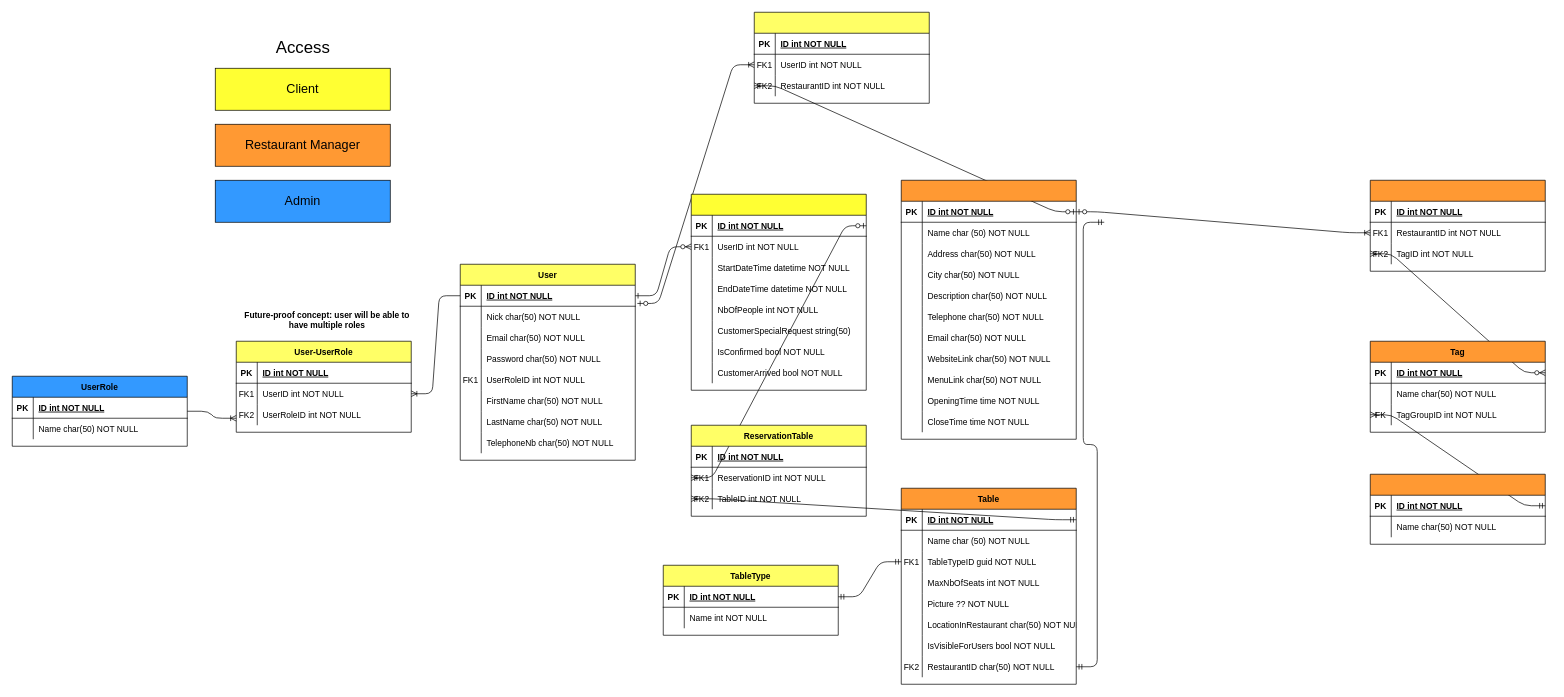
The diagram is 1564 pixels wide and 697 high, and some of its shapes have lost their labels. Each missing label, with the box of its shape:
Reservation: (691, 194, 866, 390)
Restaurant: (901, 180, 1076, 439)
RestaurantTag: (1370, 180, 1545, 271)
TagGroup: (1370, 474, 1545, 544)
UserRestaurant (Favourites): (754, 12, 929, 103)
